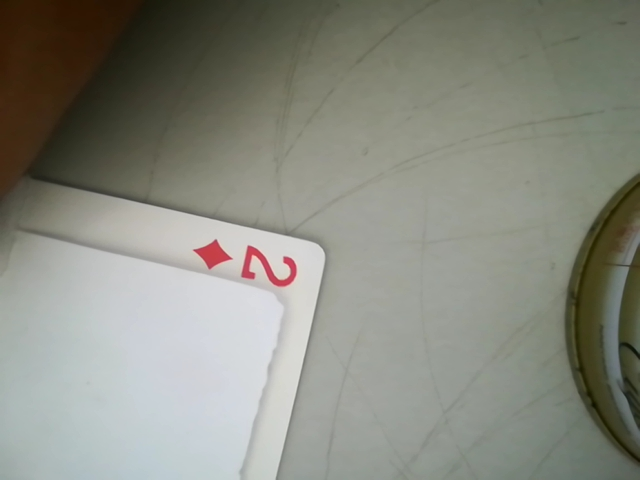fk 2: (193, 235, 318, 293)
